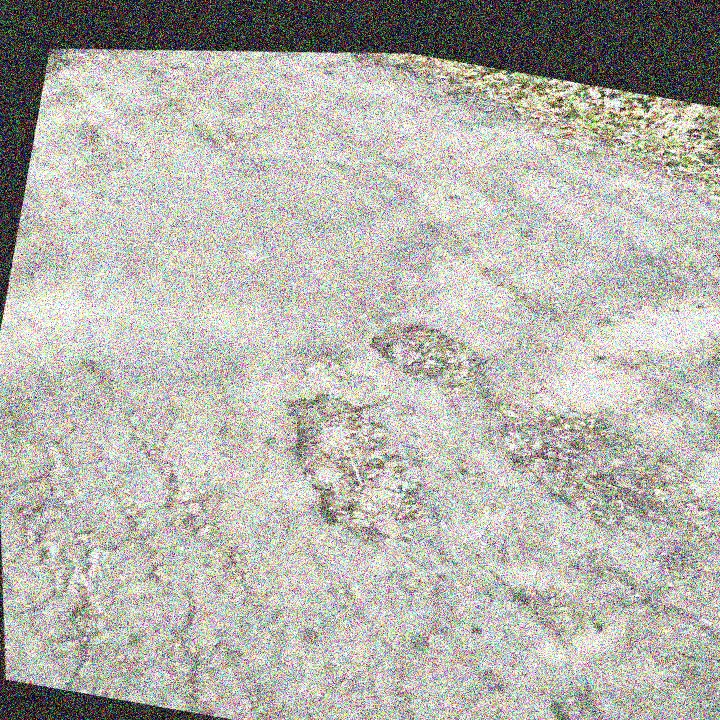pothole: (472, 358, 720, 563), (261, 366, 452, 567), (354, 302, 504, 414), (43, 39, 115, 101)
